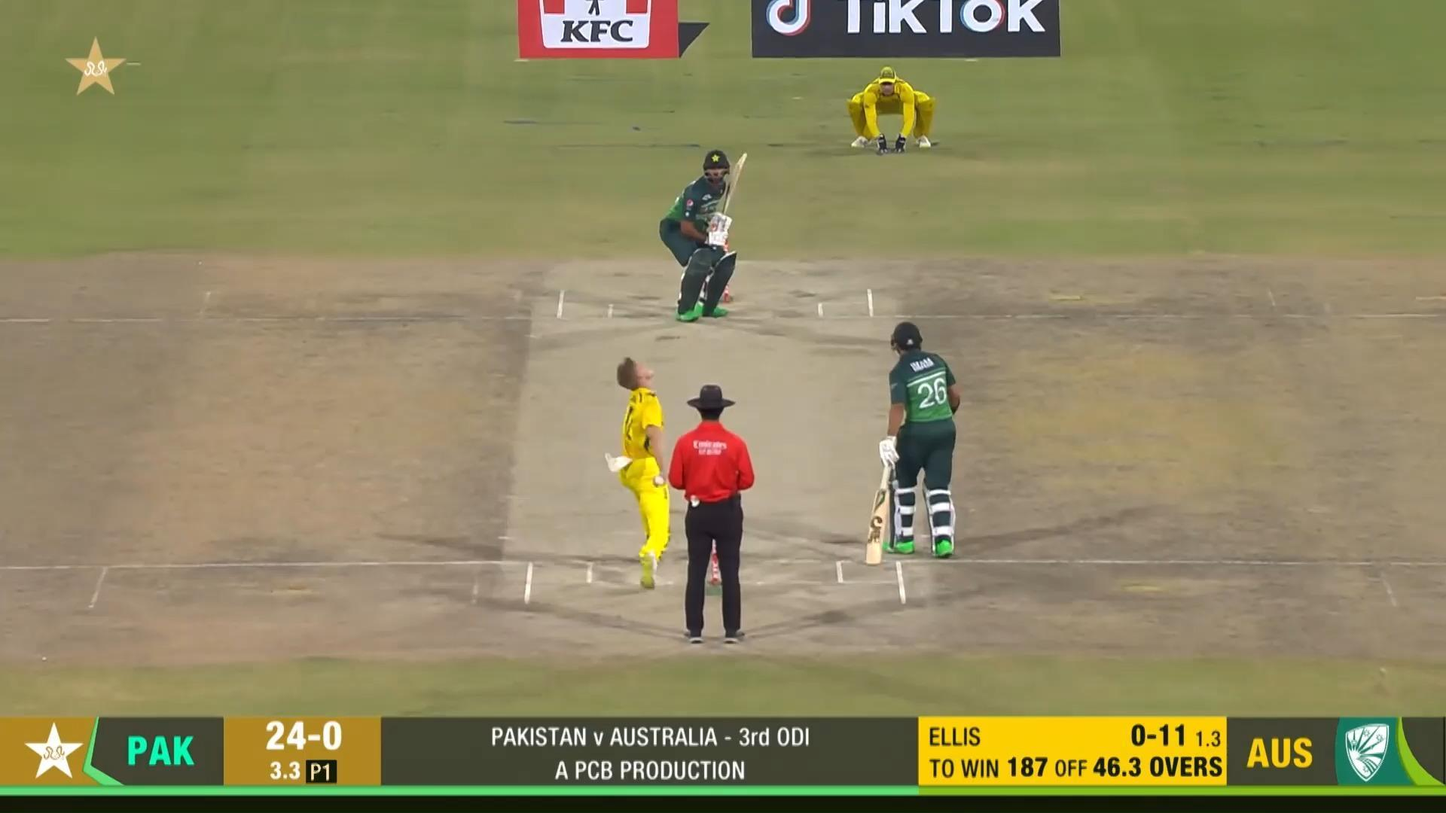BM 1: (659, 149, 750, 322)
BO: (604, 355, 672, 589)
